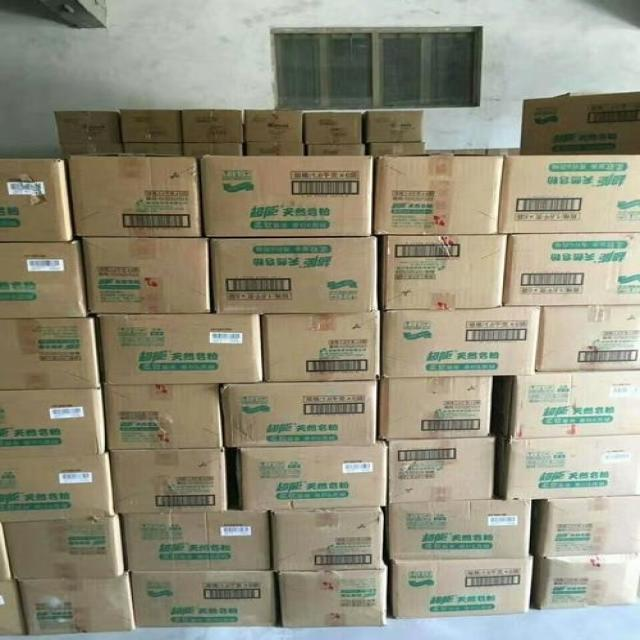box: (200, 155, 374, 237), (211, 237, 379, 314), (97, 314, 262, 385), (381, 307, 544, 377), (498, 154, 640, 234), (69, 156, 202, 237), (238, 439, 388, 510), (122, 500, 271, 571), (220, 380, 376, 447), (374, 154, 503, 235), (503, 233, 640, 306), (83, 236, 210, 314), (504, 370, 640, 439), (383, 235, 507, 310), (498, 435, 639, 500), (389, 555, 532, 619), (383, 499, 532, 559), (262, 311, 381, 383), (0, 450, 116, 522), (131, 570, 275, 628), (102, 383, 224, 449), (3, 514, 125, 580), (110, 448, 228, 513), (278, 558, 388, 627), (270, 506, 385, 572), (520, 91, 640, 154), (17, 571, 136, 634), (0, 317, 101, 390), (387, 437, 495, 504), (378, 376, 492, 439), (0, 240, 88, 319), (536, 305, 639, 371), (531, 496, 640, 557), (0, 157, 74, 242), (531, 553, 639, 610), (54, 111, 123, 145), (180, 109, 243, 143), (120, 109, 182, 143), (364, 110, 422, 144), (244, 110, 303, 143), (303, 112, 361, 144), (0, 581, 27, 635), (182, 143, 243, 156), (59, 142, 123, 154), (0, 524, 13, 581), (246, 143, 305, 155), (123, 143, 183, 154), (370, 142, 424, 154), (308, 145, 365, 155)
